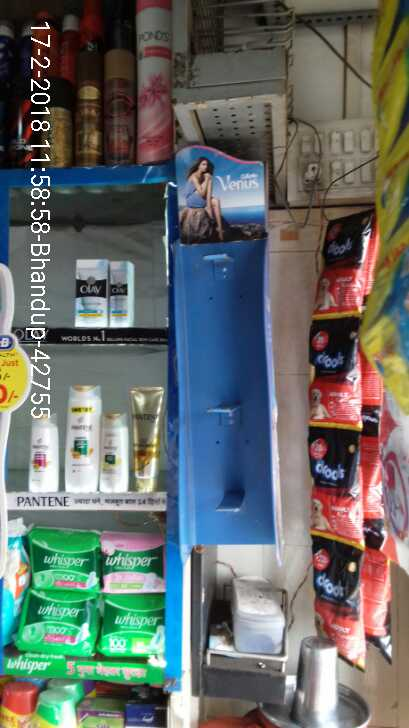beauty: (62, 384, 100, 489), (131, 386, 166, 491), (28, 404, 60, 491), (70, 254, 109, 325), (100, 411, 131, 491), (105, 257, 135, 334)
pharmacy: (14, 587, 97, 655), (26, 522, 99, 594), (98, 594, 167, 663), (94, 532, 166, 591)
